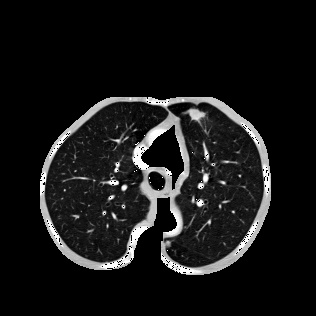PN: (189, 107, 203, 121)
